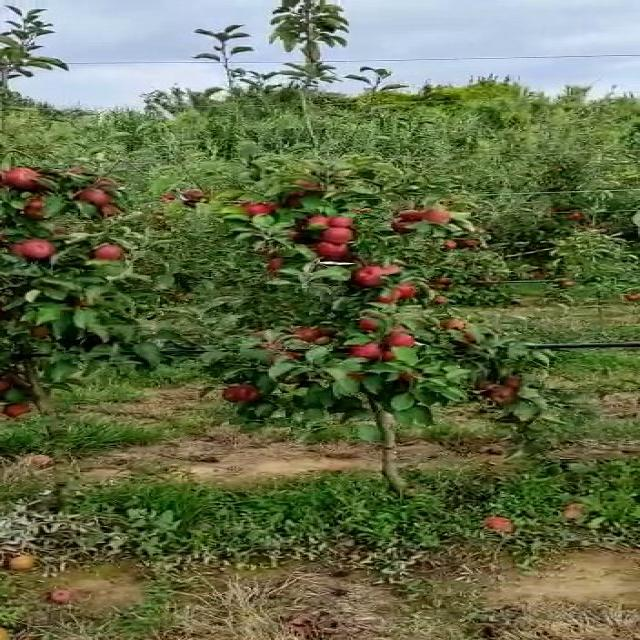100-_ripeness: (316, 237, 353, 263), (7, 165, 40, 191), (9, 241, 58, 258), (354, 265, 392, 286), (353, 340, 385, 364), (395, 210, 427, 234), (225, 384, 262, 402), (382, 281, 413, 302), (322, 225, 356, 244), (75, 186, 107, 205), (238, 201, 275, 217), (304, 215, 334, 233), (388, 329, 417, 346), (487, 390, 513, 407), (2, 405, 31, 419)
